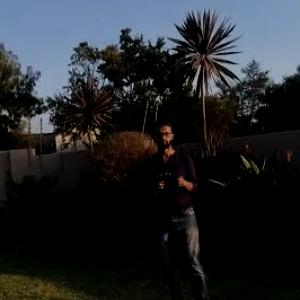follow: (142, 115, 214, 299)
